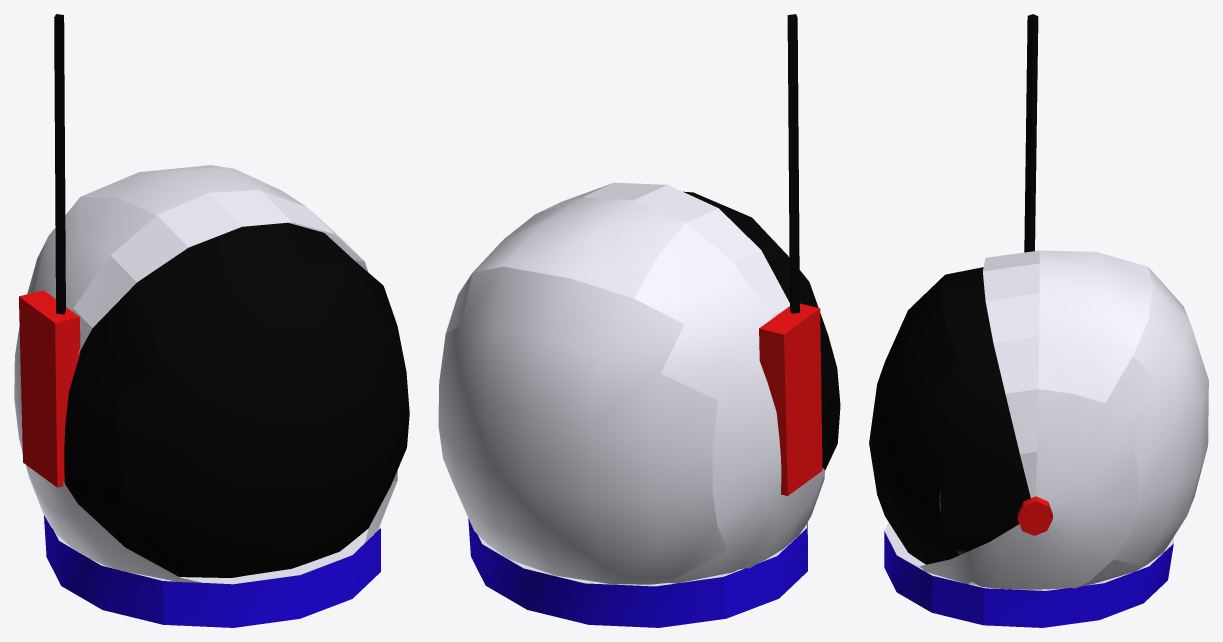
File: roblox_astronaut_helmet.glb
The picture shows the model from 3 angles, left to right: view 1: azimuth 30°, elevation 25°; view 2: azimuth 150°, elevation 25°; view 3: azimuth 270°, elevation 25°; orthographic projection. The views are drawn at different scales.
Visible parts, largest first — view 1: Object_2; view 2: Object_2; view 3: Object_2.
Boxes of the visible parts, left/top/right/bottom form: Object_2: left=14, top=14, right=409, bottom=627; Object_2: left=438, top=14, right=840, bottom=627; Object_2: left=869, top=14, right=1208, bottom=627.
Size of the model in its own units: 2.14 by 3.39 by 2.14.
1 material, 1 textured.
